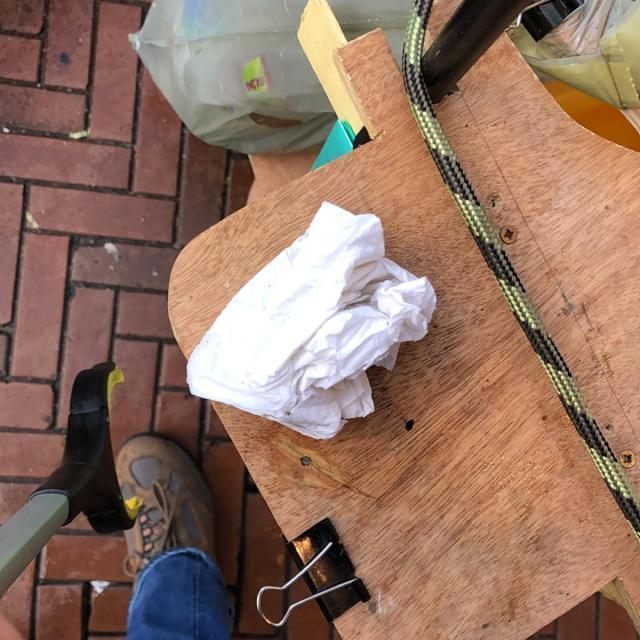Paper: (184, 202, 439, 442)
